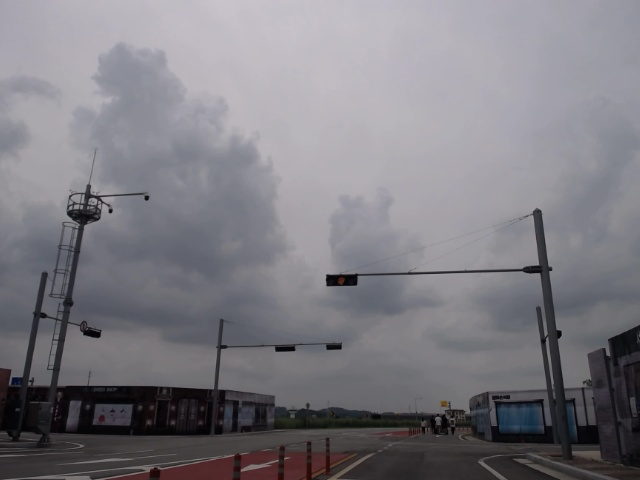orange_3: (325, 274, 357, 286)
